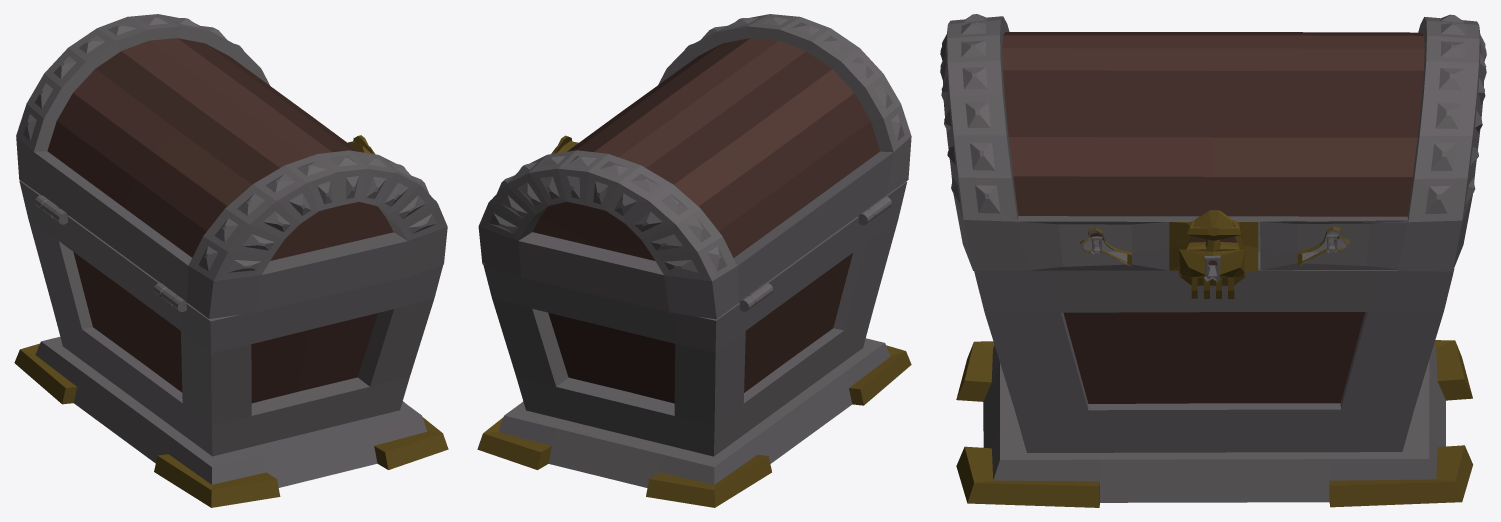
Rendered from bau.fbx.
The picture shows the model from 3 angles, left to right: view 1: azimuth 30°, elevation 25°; view 2: azimuth 150°, elevation 25°; view 3: azimuth 270°, elevation 25°; orthographic projection. The views are drawn at different scales.
Parts seen in each view (by area): view 1: tampabau.001; view 2: tampabau.001; view 3: tampabau.001.
Boxes of the visible parts, <box> form: tampabau.001: <box>14,14,448,507</box>; tampabau.001: <box>477,14,911,507</box>; tampabau.001: <box>940,14,1486,507</box>.
Bounding box in the file's own units: 89.27 × 103 × 127.
